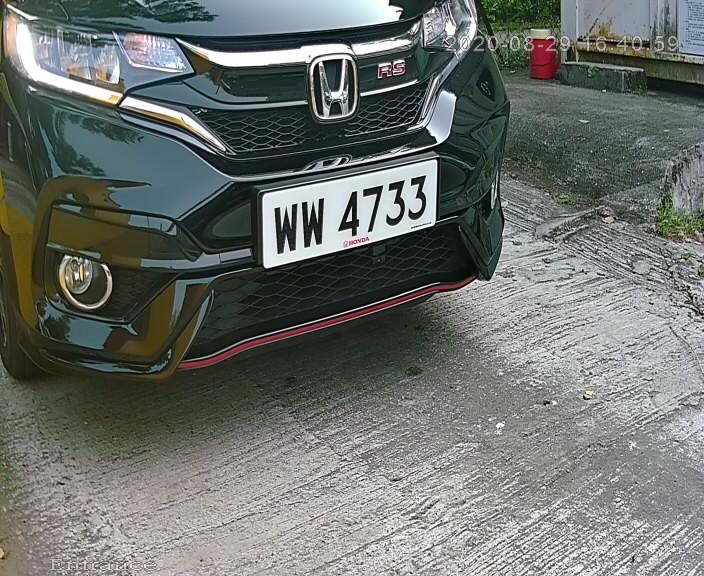License Plate: (231, 132, 458, 293)
